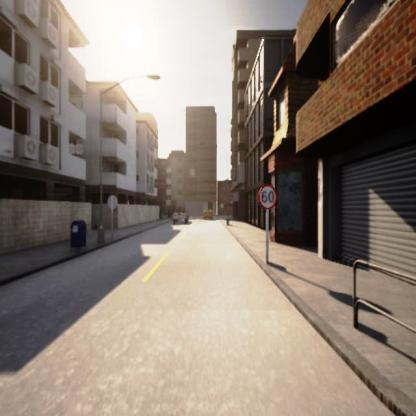vehicle: (172, 210, 192, 224)
